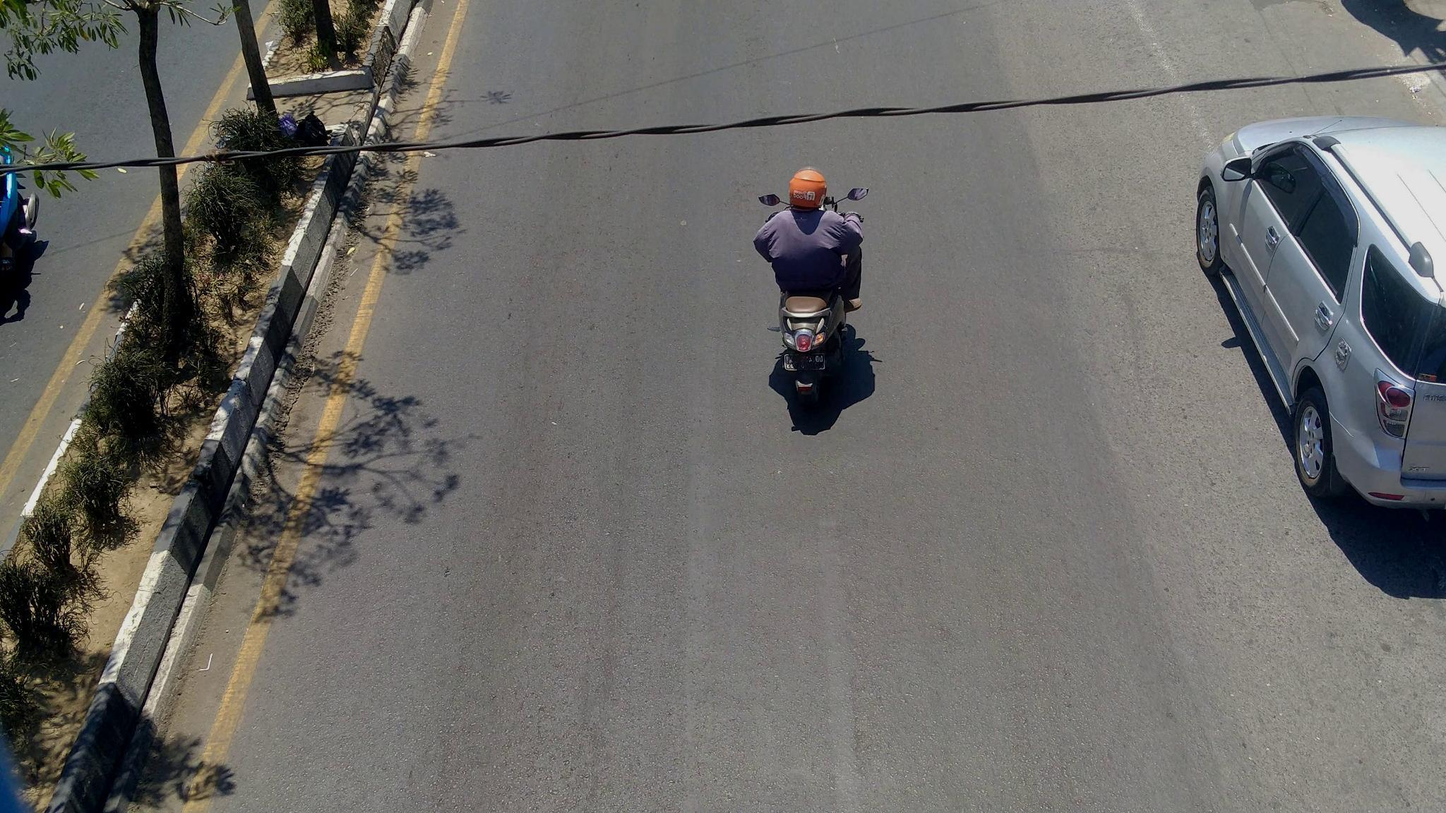Helmet: (783, 165, 833, 218)
bike: (754, 185, 870, 399)
number-plate: (778, 352, 827, 370)
rider: (754, 168, 865, 310)
